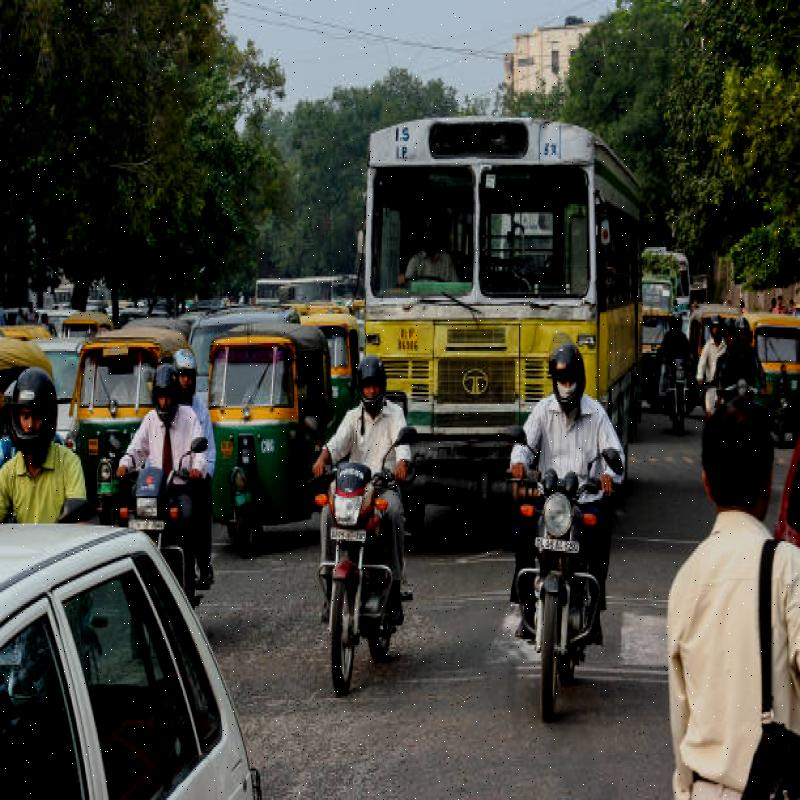auto: (199, 330, 338, 552), (73, 336, 173, 521), (753, 307, 800, 426)
bike: (513, 436, 595, 728), (317, 451, 385, 694), (111, 455, 180, 543)
bus: (340, 77, 659, 486)
car: (0, 514, 272, 800)
